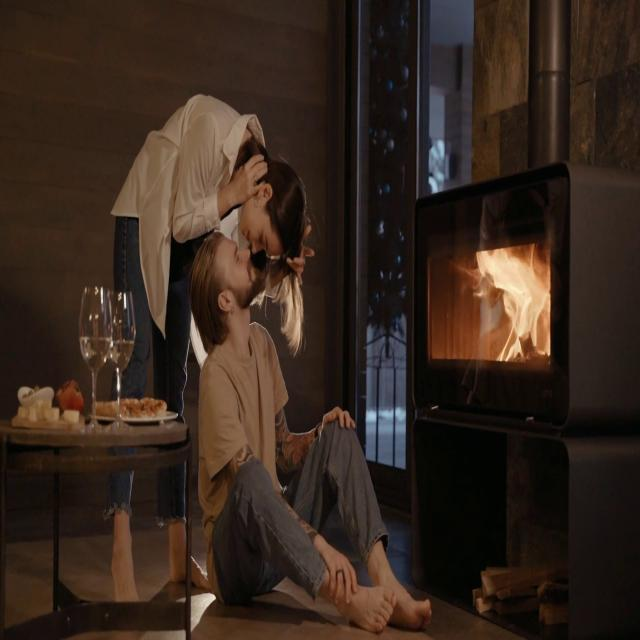Fire: (471, 242, 552, 360)
